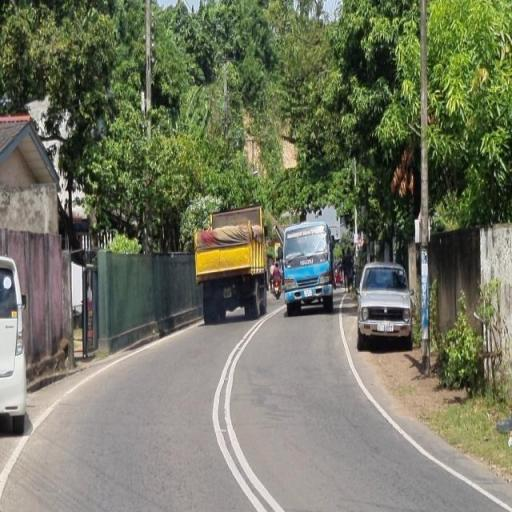double_white_line: (338, 313, 508, 511), (212, 302, 284, 510)
